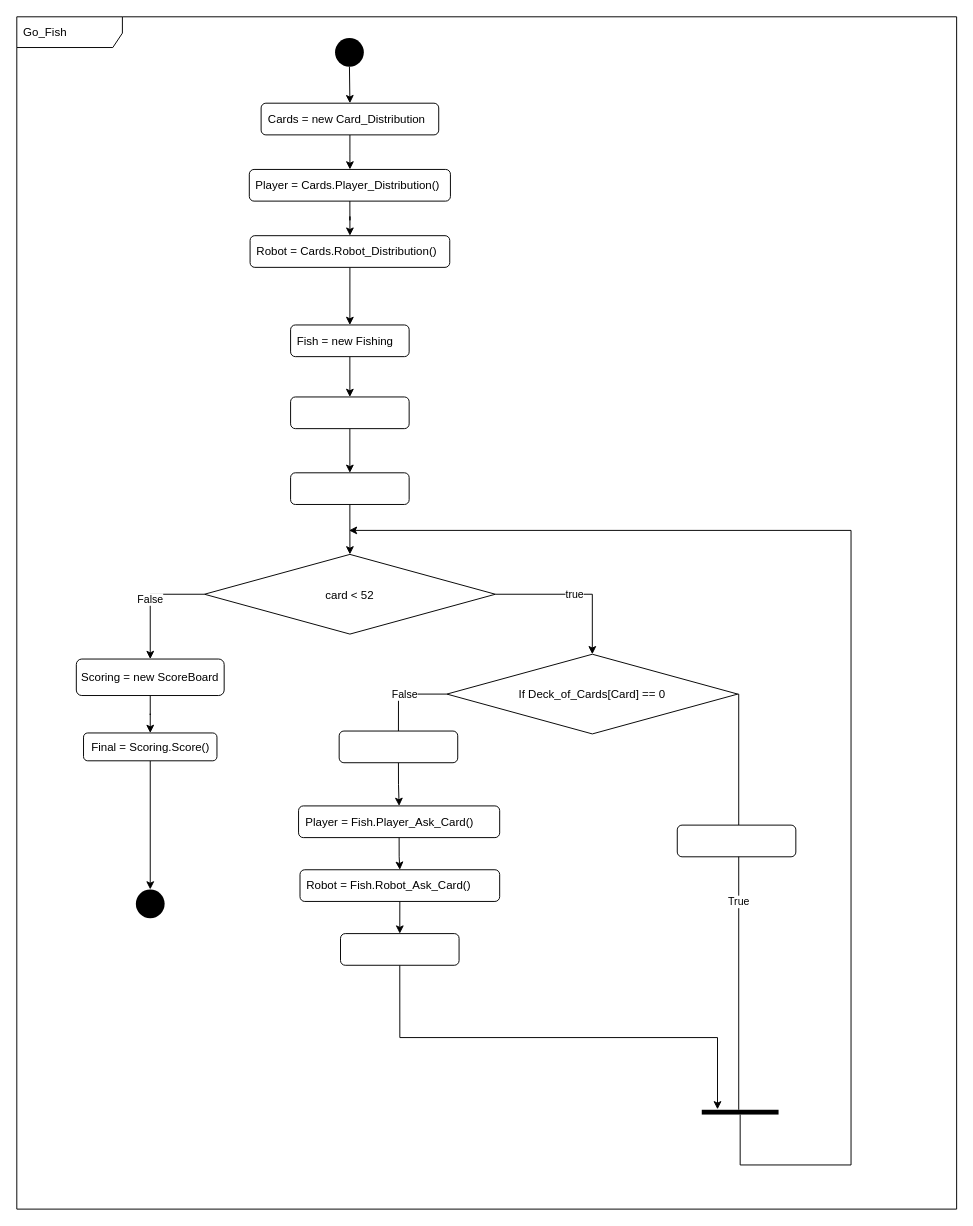
This 973x1226 diagram has some shape labels left out. Here are the shapes that lost their labels. From the top down, the centre of each, then its label:
[349,412]: card =0
[349,488]: done = true
[398,746]: done = false
[736,840]: card = 53
[399,949]: card += 1
